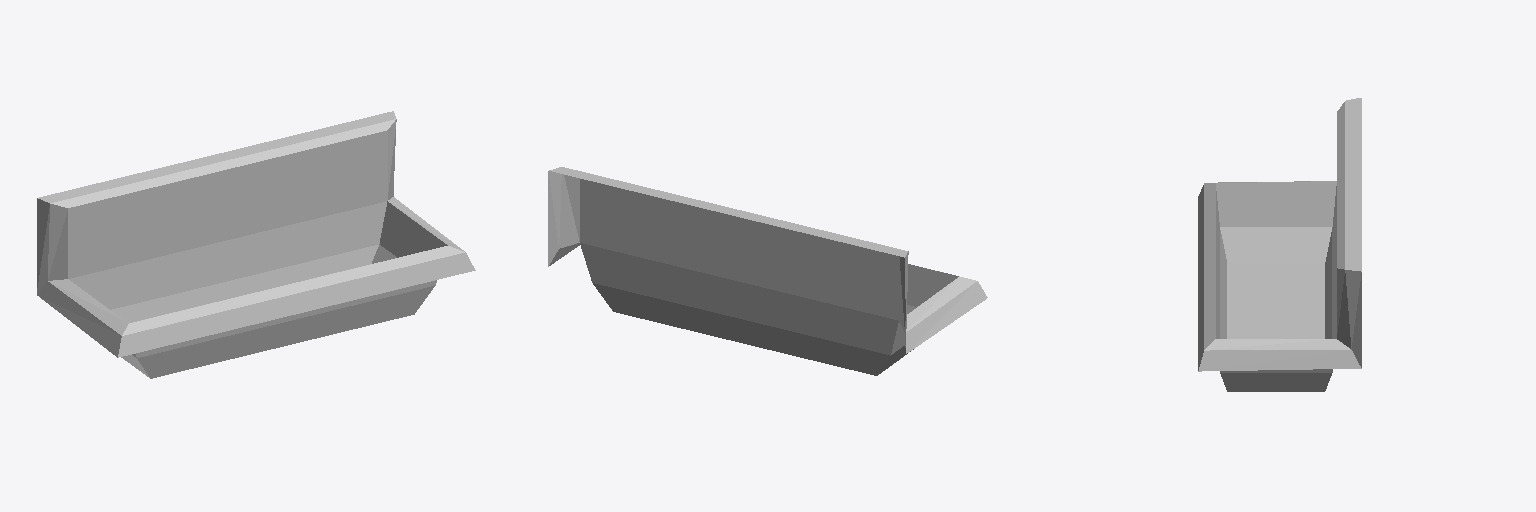
File: bathroomSink.obj
3 renders of one model, left to right at view 1: azimuth 30°, elevation 25°; view 2: azimuth 150°, elevation 25°; view 3: azimuth 270°, elevation 25°, orthographic.
Parts seen in each view (by area): view 1: Cube; view 2: Cube; view 3: Cube.
Part boxes in pixels (x1,y1,x2,y2): Cube: (37,111,475,378); Cube: (548,167,987,375); Cube: (1198,98,1361,391).
Bounding box in the file's own units: 5.56 × 2.12 × 2.19.